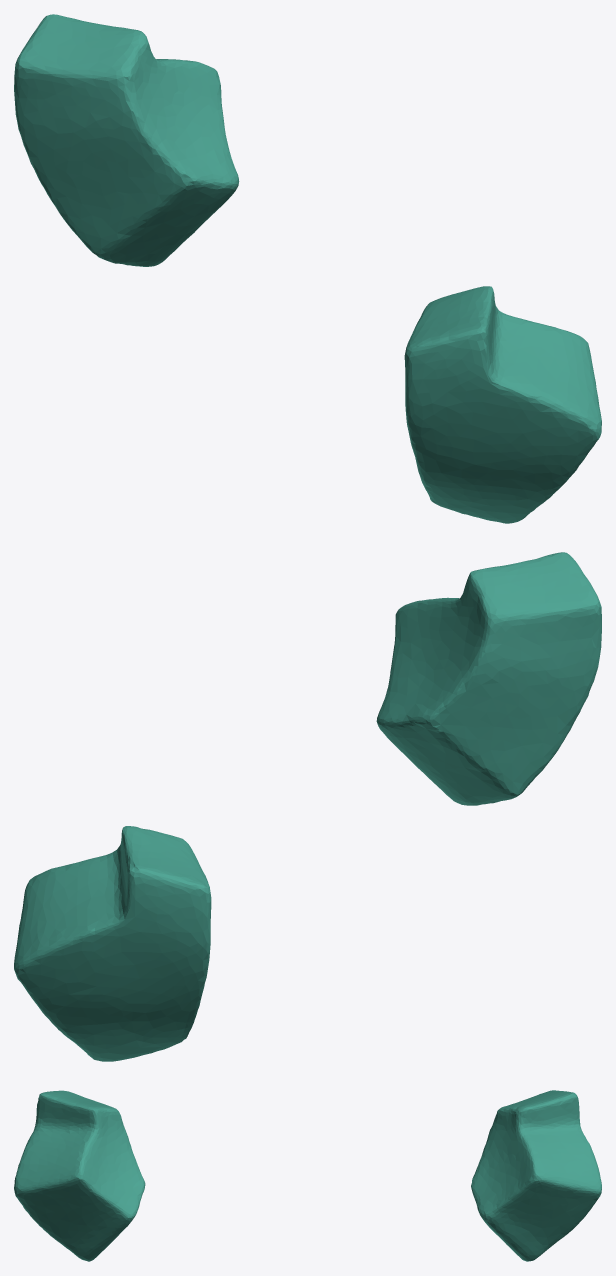
The picture shows the model from 3 angles, top to bottom: view 1: azimuth 30°, elevation 25°; view 2: azimuth 150°, elevation 25°; view 3: azimuth 270°, elevation 25°; orthographic projection. The views are drawn at different scales.
Parts seen in each view (by area): view 1: 345.obj; view 2: 345.obj; view 3: 345.obj.
Part boxes in pixels (x1=…): 345.obj: x1=14, y1=14, x2=601, y2=523; 345.obj: x1=14, y1=552, x2=601, y2=1061; 345.obj: x1=14, y1=1090, x2=601, y2=1261.
Size of the model in its own units: 2062 by 2437 by 8775.
